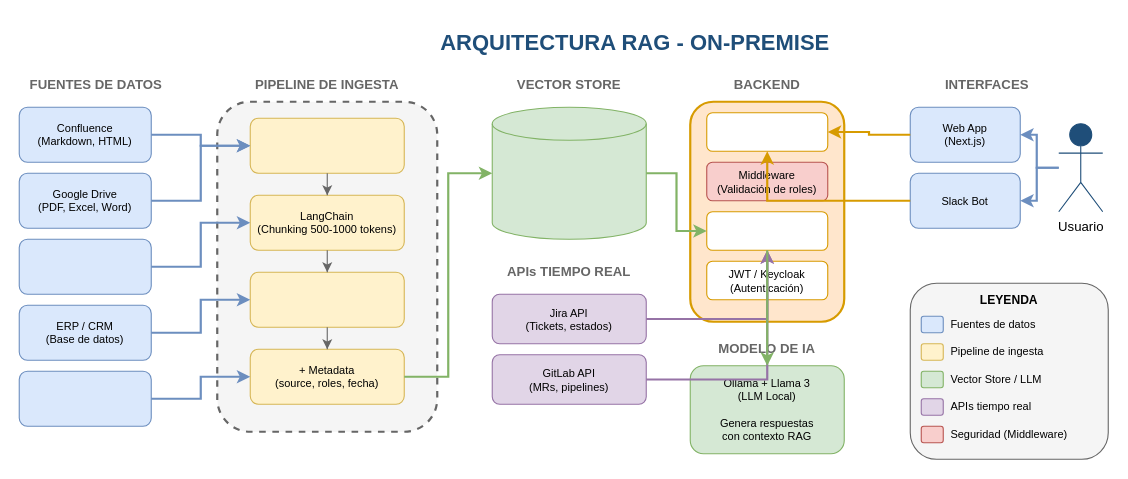
This 1128x479 diagram has some shape labels left out. The centre of each missing label's shape, as x and y in pixels:
"Excel / Sheets (Ventas, RRHH, Stock)" goes at [84,398].
"FastAPI (API REST)" goes at [767,230].
"Nginx (SSL/Proxy)" goes at [767,131].
"Qdrant (Docker) Vectores + Metadata + Índices" goes at [568,172].
"Repositorios Git (Markdown, YAML)" goes at [84,266].
"Sentence Transformers (Embeddings locales)" goes at [326,299].
"Unstructured (Extracción de texto)" goes at [326,145].
